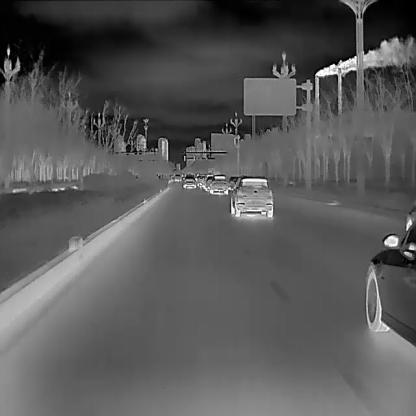car: (364, 219, 415, 346), (230, 174, 272, 218), (209, 173, 227, 196), (183, 174, 196, 188)
